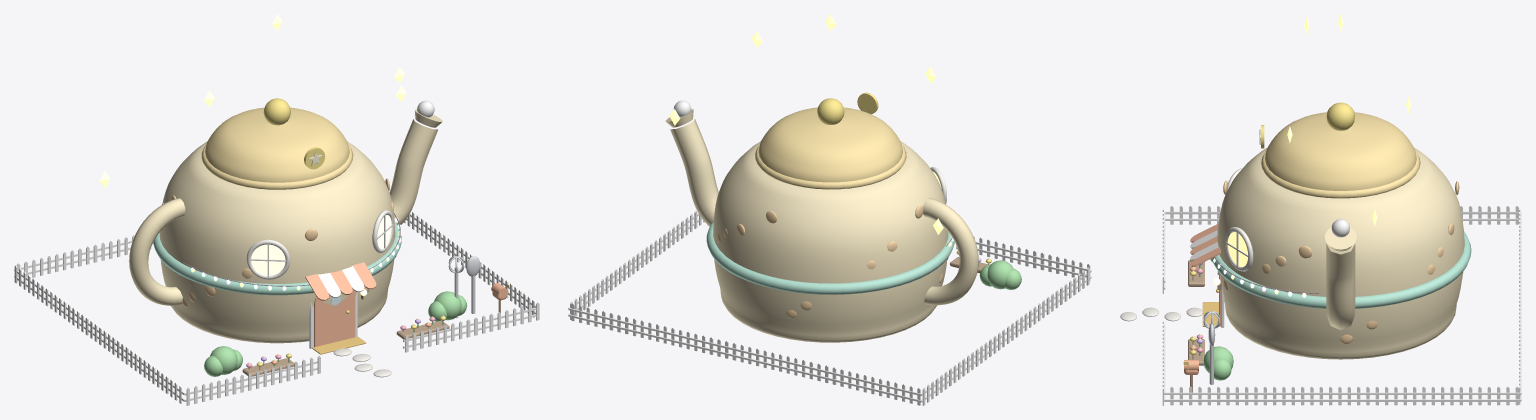
The model's file is building_kitchen_L10.glb.
The picture shows the model from 3 angles, left to right: view 1: azimuth 30°, elevation 25°; view 2: azimuth 150°, elevation 25°; view 3: azimuth 270°, elevation 25°; orthographic projection. The views are drawn at different scales.
Visible parts, largest first — view 1: Body, kitchen_L10; view 2: Body, kitchen_L10; view 3: Body, kitchen_L10.
Boxes of the visible parts, bbox=[...] form: Body: bbox=[129, 98, 480, 354]; kitchen_L10: bbox=[14, 14, 539, 405]; Body: bbox=[665, 98, 978, 342]; kitchen_L10: bbox=[568, 14, 1091, 405]; Body: bbox=[1190, 102, 1471, 384]; kitchen_L10: bbox=[1120, 14, 1521, 405].
Bounding box in the file's own units: 25.35 × 19.77 × 23.64.
